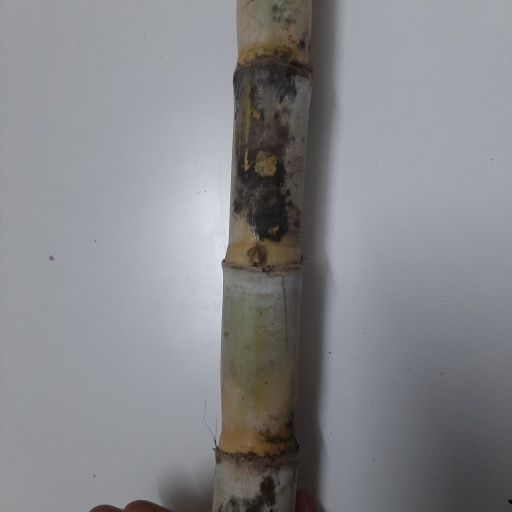Bud: (246, 244, 267, 266)
